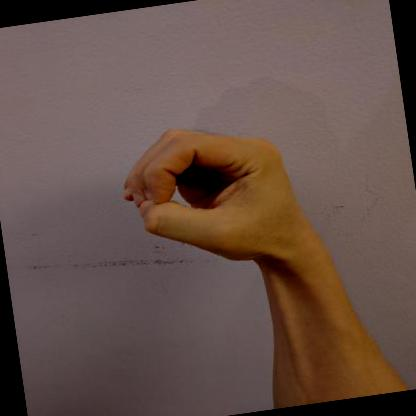O: (123, 128, 313, 262)
